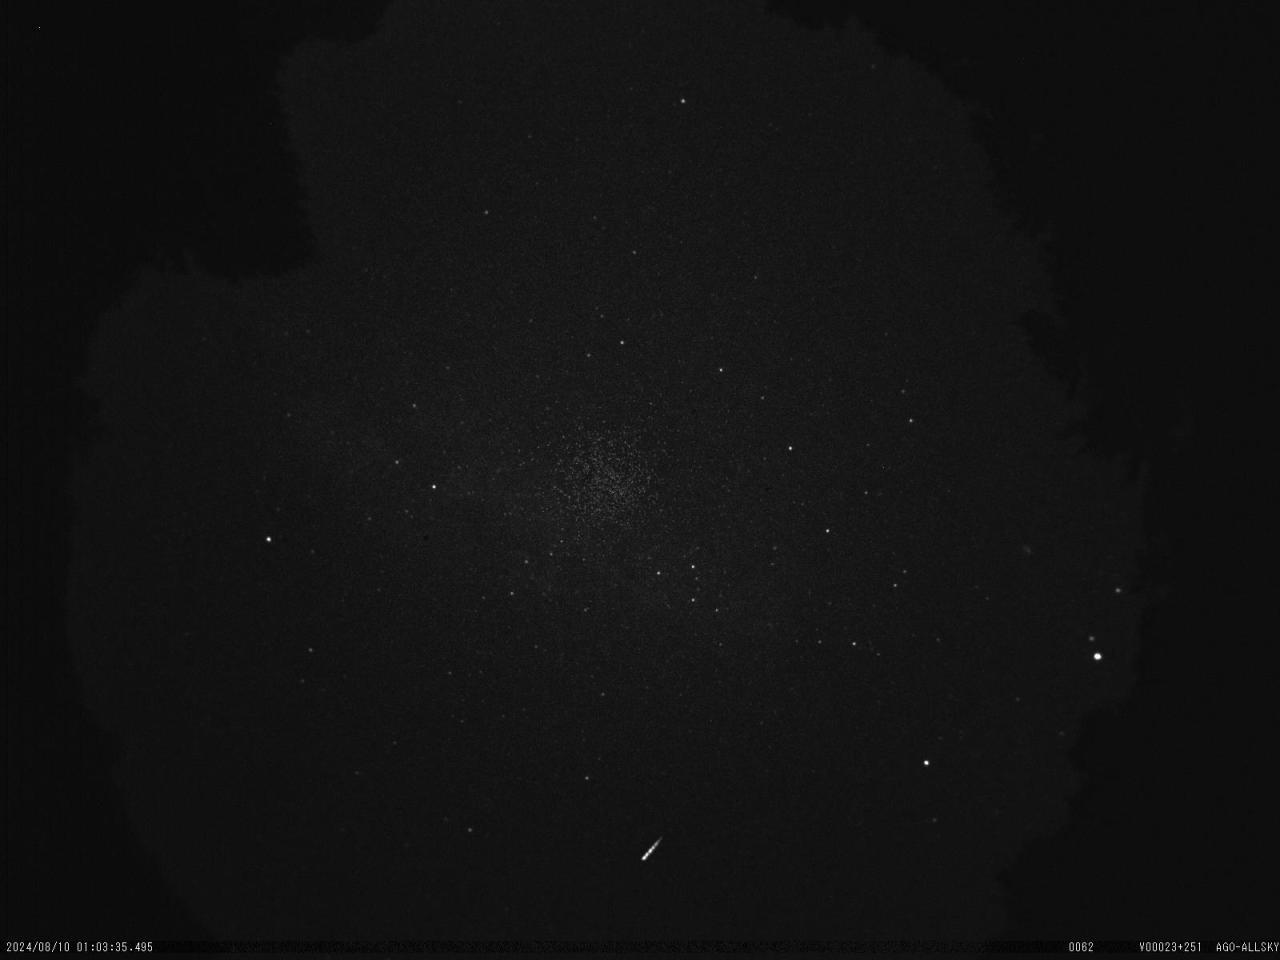Meteor: (638, 834, 662, 862)
